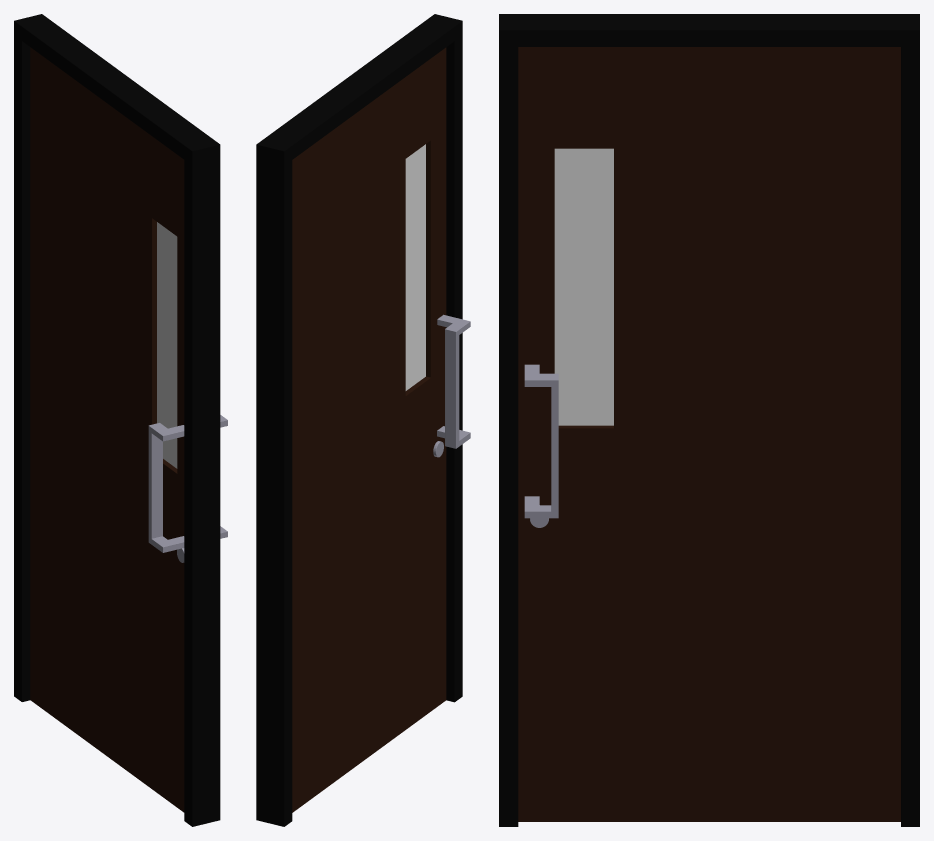
Rendered from PintuKelas.fbx.
3 renders of one model, left to right at view 1: azimuth 30°, elevation 25°; view 2: azimuth 150°, elevation 25°; view 3: azimuth 270°, elevation 25°, orthographic. The views are drawn at different scales.
Visible parts, largest first — view 1: Cube.043; view 2: Cube.043; view 3: Cube.043.
Boxes of the visible parts, x1=… form: Cube.043: x1=14, y1=14, x2=227, y2=826; Cube.043: x1=256, y1=14, x2=470, y2=826; Cube.043: x1=499, y1=14, x2=919, y2=826.
Bounding box in the file's own units: 46.3 × 460 × 220.
